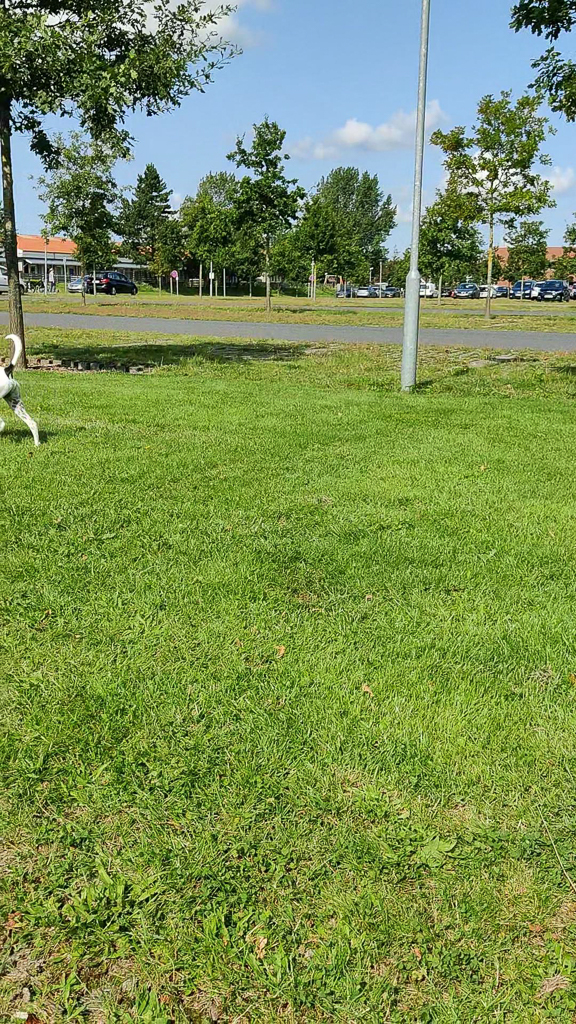Dog: (0, 328, 55, 451)
